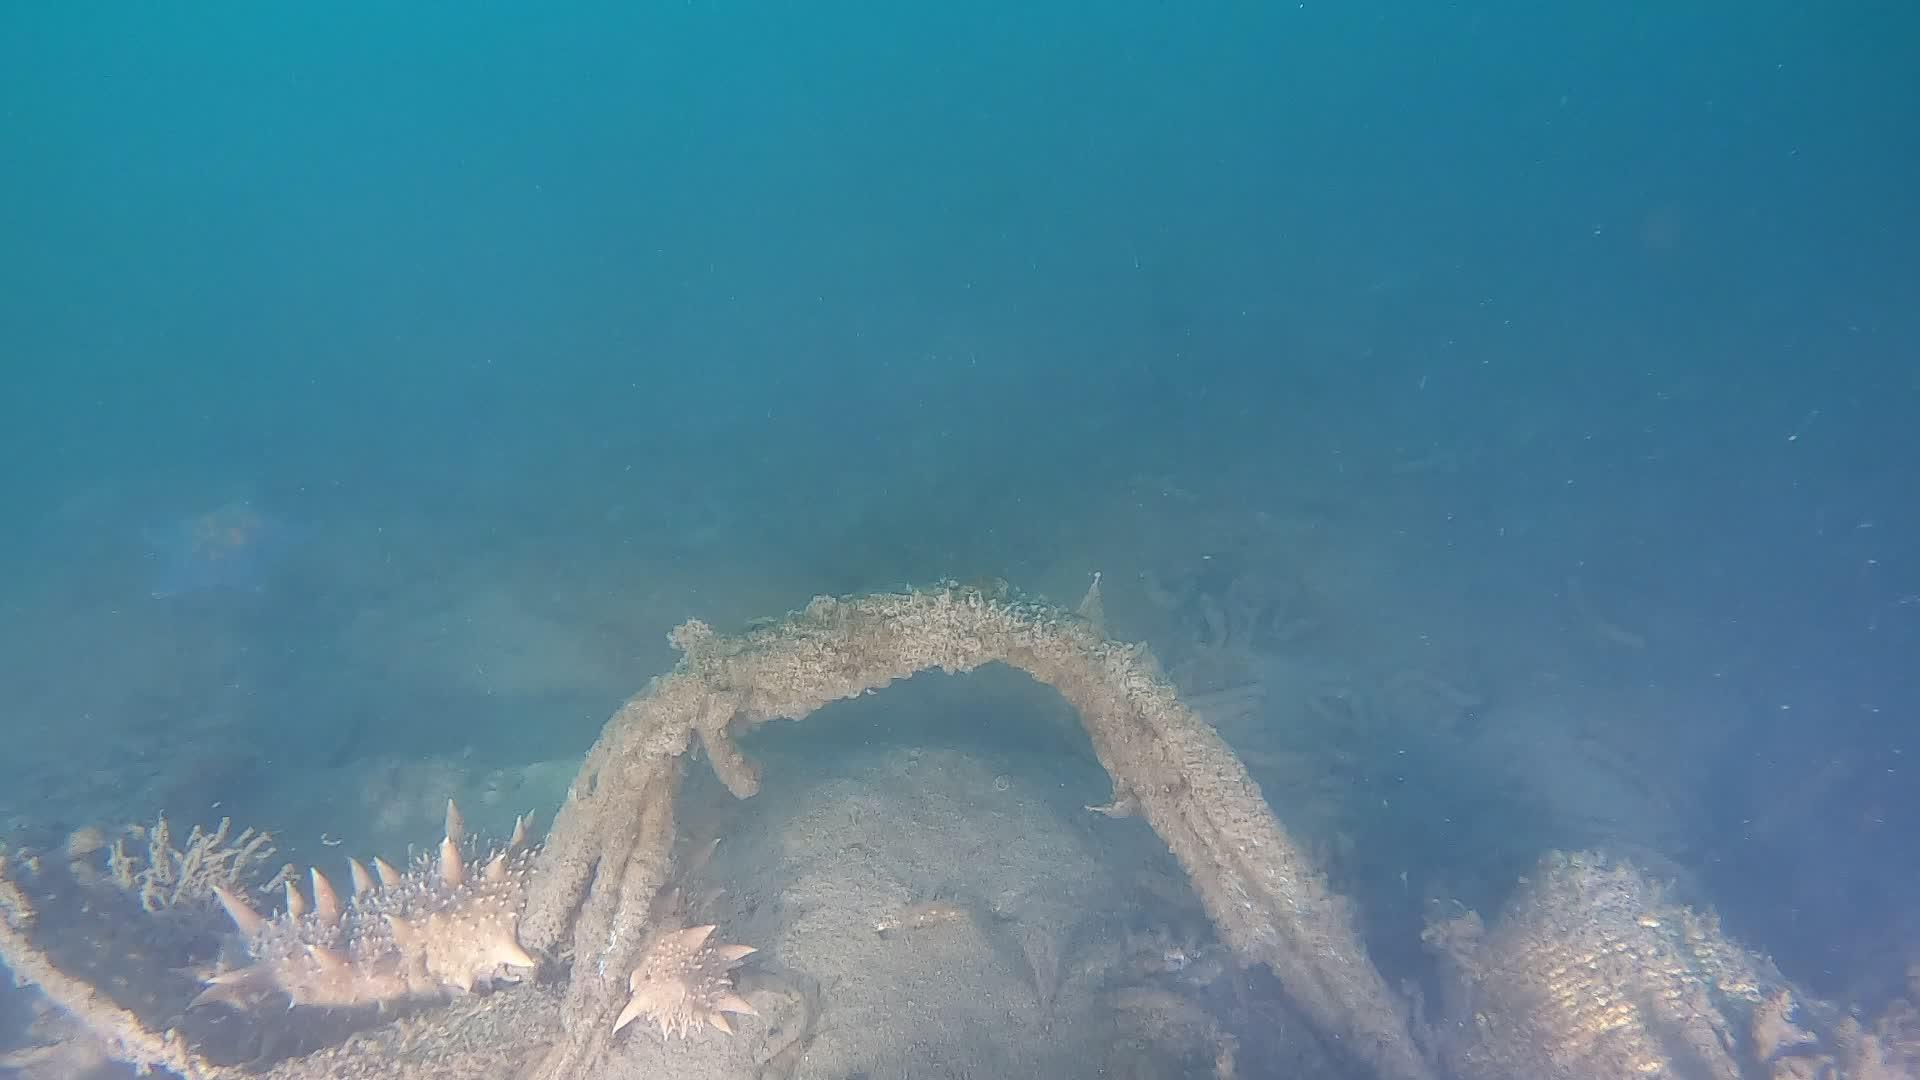bundle of ropes: (493, 574, 1441, 1080)
